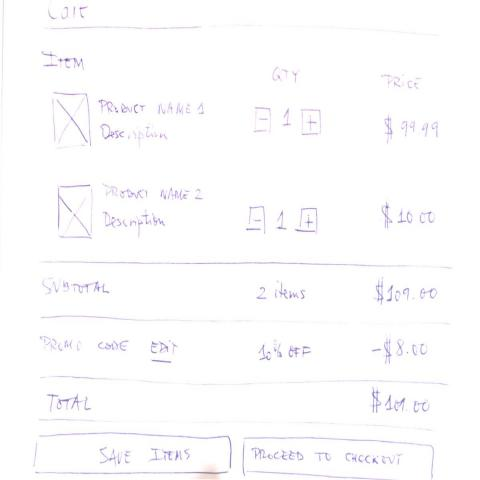Button: (32, 429, 234, 477), (241, 434, 436, 480)
Image: (52, 89, 94, 154), (56, 183, 95, 240)
